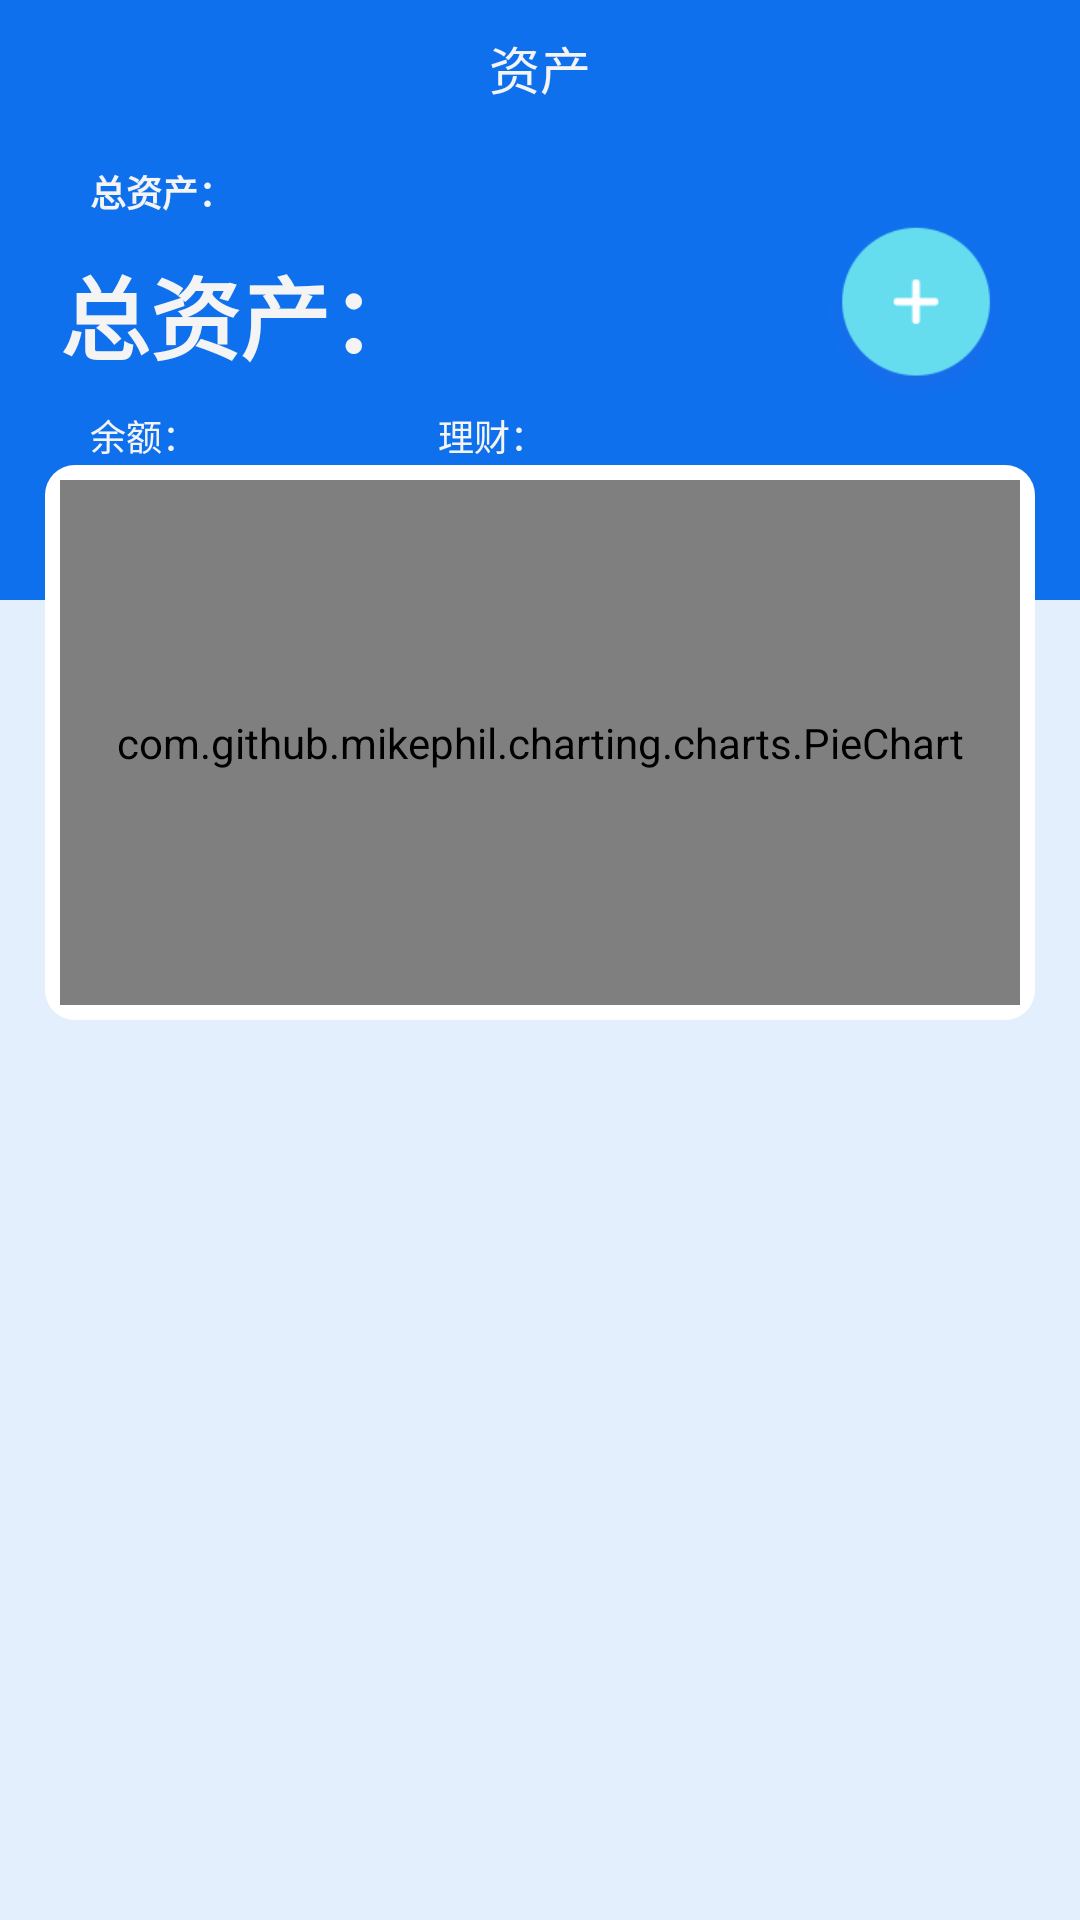

Screen size 1080px x 1920px. Icon name, then its box in pixels as (x1, y1, x2, y2):
add: (842, 227, 990, 376)
